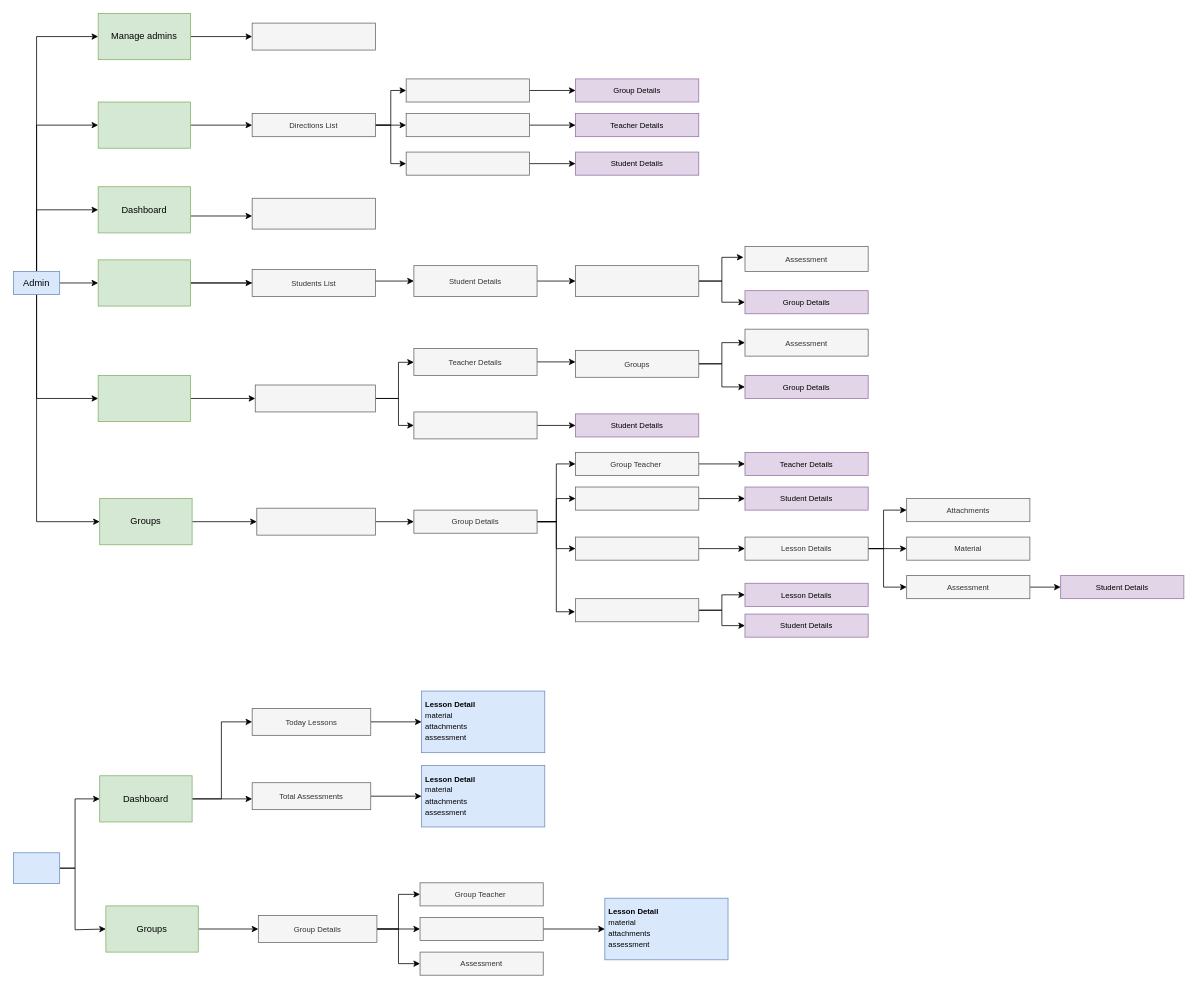
The diagram is 1197 pixels wide and 989 high, and some of its shapes have lost their labels. The shapes that lost their labels are listed below. From the top down, each one's box as (x1, y1, x2, y2) in pixels, then its label:
(251, 22, 375, 50): Admin List
(405, 78, 529, 102): Groups By Direction
(97, 101, 191, 148): Manage Directions
(405, 113, 529, 137): Teachers By Direction
(405, 151, 529, 175): Students By Direction
(251, 198, 375, 229): Statistics
(97, 259, 191, 306): Students
(575, 265, 699, 296): Show Student groups
(97, 375, 191, 422): Teachers
(254, 384, 375, 412): Teachers List
(413, 411, 537, 439): Teacher Directions
(575, 486, 699, 510): Group Students
(256, 507, 375, 535): Group List
(575, 536, 699, 560): Group Lessons
(575, 598, 699, 622): Total Assessment
(13, 852, 60, 884): Student
(419, 917, 543, 941): Lessons
